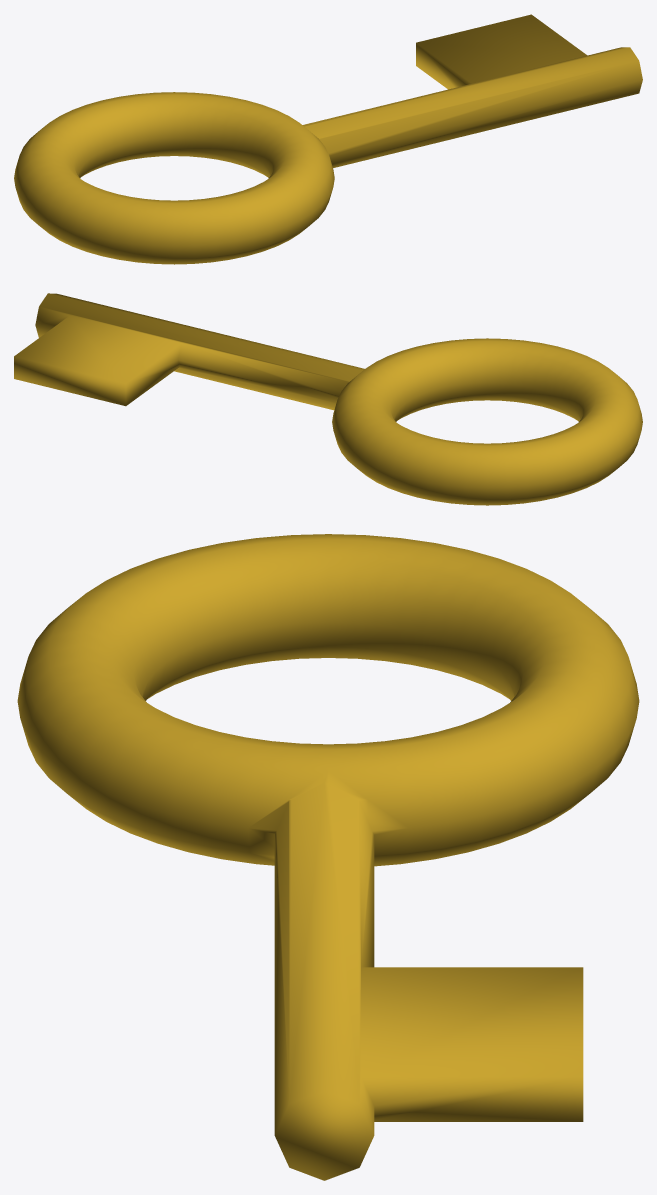
File: key.glb
3 renders of one model, top to bottom at view 1: azimuth 30°, elevation 25°; view 2: azimuth 150°, elevation 25°; view 3: azimuth 270°, elevation 25°, orthographic. The views are drawn at different scales.
Visible parts, largest first — view 1: Torus; view 2: Torus; view 3: Torus.
Boxes of the visible parts, x1,y1,x2,y2 form: Torus: (14, 14, 642, 264); Torus: (14, 293, 642, 505); Torus: (17, 534, 639, 1180).
Size of the model in its own units: 6.68 by 0.625 by 3.12.
